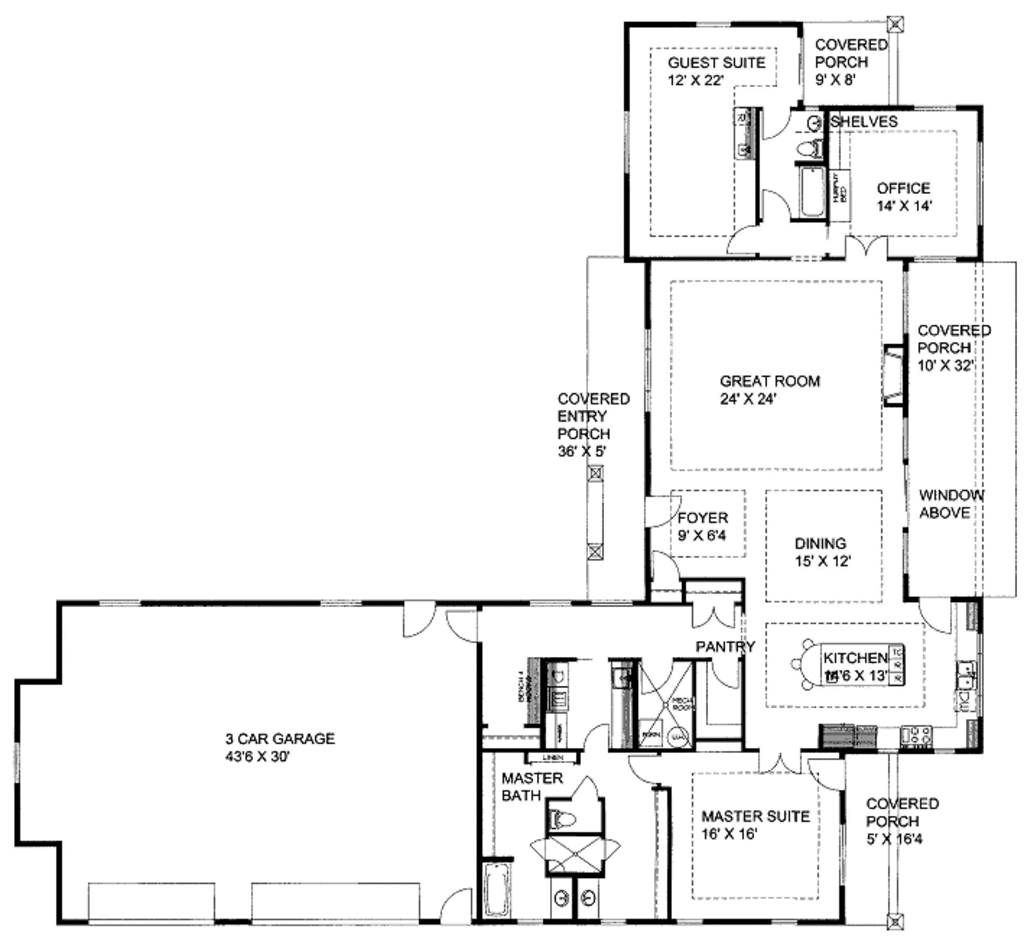door: (684, 594, 742, 636), (915, 594, 959, 648), (624, 749, 669, 794), (640, 544, 683, 589), (443, 598, 484, 643), (843, 229, 891, 267), (639, 490, 685, 528), (399, 593, 436, 640), (756, 746, 802, 781), (710, 654, 744, 700), (757, 181, 797, 217), (440, 888, 475, 929), (813, 756, 847, 798), (721, 222, 765, 252), (642, 656, 673, 697), (571, 774, 608, 804), (765, 98, 792, 135), (579, 722, 611, 752), (526, 838, 550, 865), (604, 839, 623, 862)
kitchen_bar: (797, 627, 914, 700)
large_sink: (788, 135, 840, 164), (549, 797, 588, 835)
small_sink: (575, 877, 605, 925), (543, 880, 573, 919), (804, 111, 833, 138)
tub: (479, 856, 518, 926), (791, 161, 834, 219)
twin_sink: (957, 655, 981, 688)
window: (920, 251, 955, 267), (95, 596, 143, 607), (323, 594, 366, 606), (624, 104, 630, 178), (699, 17, 742, 27), (528, 598, 569, 607), (914, 103, 963, 110), (15, 745, 20, 778)
